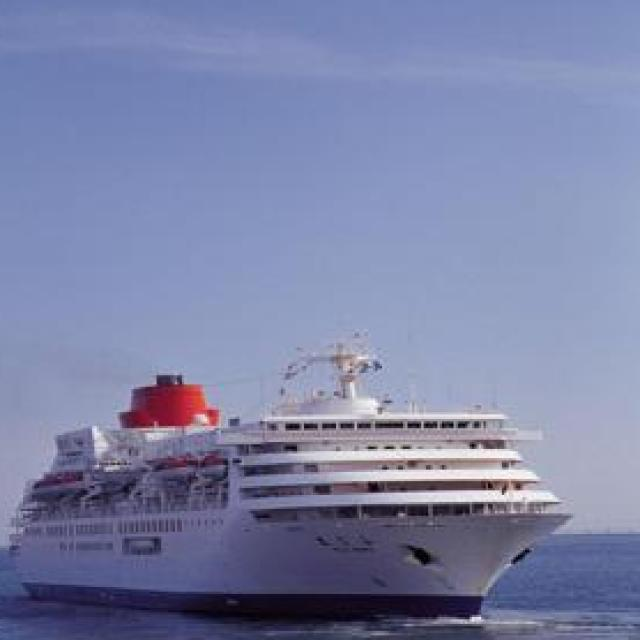passenger ship: (0, 333, 568, 617)
